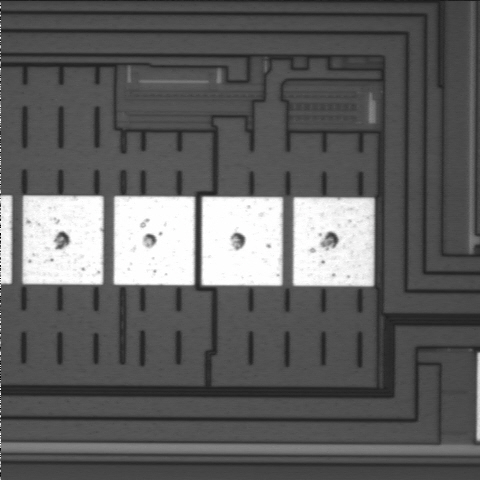pad: (22, 196, 104, 285), (114, 196, 195, 285), (202, 197, 283, 286), (293, 197, 374, 286)
